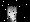person: (8, 7, 18, 22)
